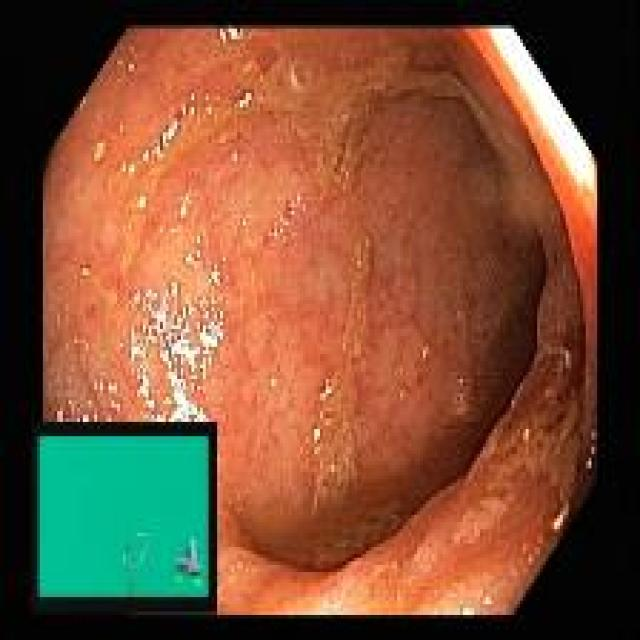ulcerative-colitis: (44, 28, 598, 615)
